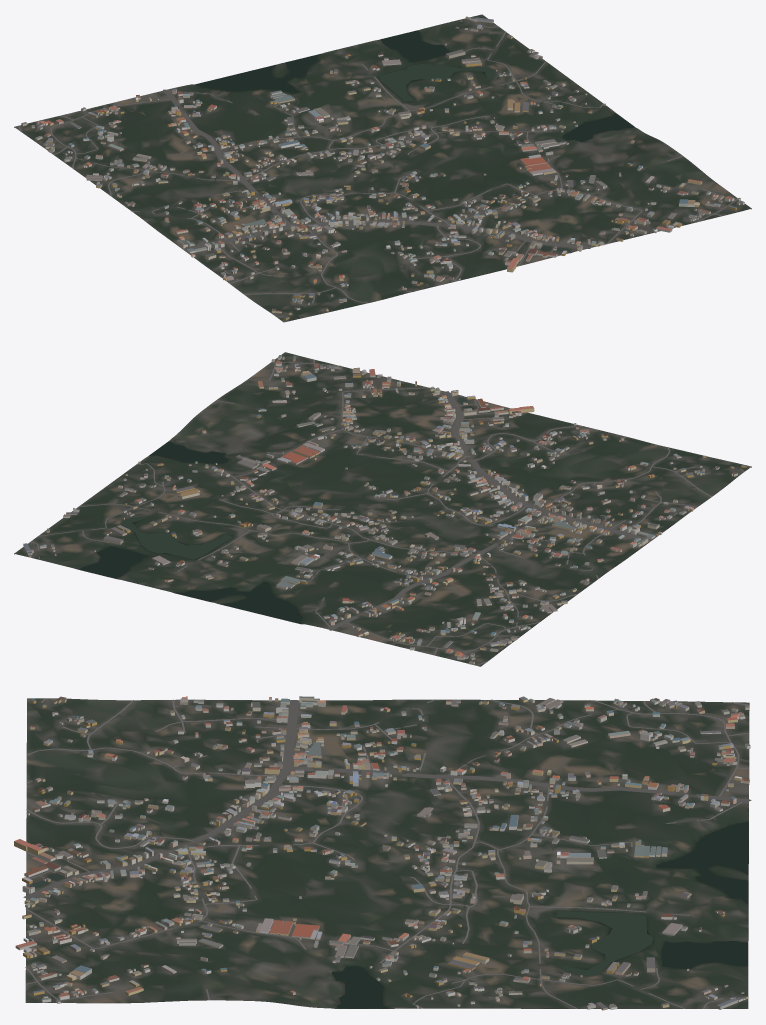
The picture shows the model from 3 angles, top to bottom: view 1: azimuth 30°, elevation 25°; view 2: azimuth 150°, elevation 25°; view 3: azimuth 270°, elevation 25°; orthographic projection. The views are drawn at different scales.
Parts seen in each view (by area): view 1: ground, buildings, water, roads; view 2: ground, buildings, roads, water; view 3: ground, buildings, roads, water.
Part boxes in pixels (box(x1,y1,x2,y2)): ground: box(14, 14, 751, 322); buildings: box(21, 16, 744, 320); water: box(194, 30, 634, 251); roads: box(18, 24, 737, 317); ground: box(14, 352, 751, 666); buildings: box(23, 355, 746, 664); roads: box(30, 359, 744, 665); water: box(79, 397, 471, 623); ground: box(25, 698, 749, 1008); buildings: box(14, 696, 750, 1010); roads: box(23, 698, 751, 1008); water: box(30, 821, 748, 1008).
Bounding box in the file's own units: 1412 × 25.47 × 1432.
